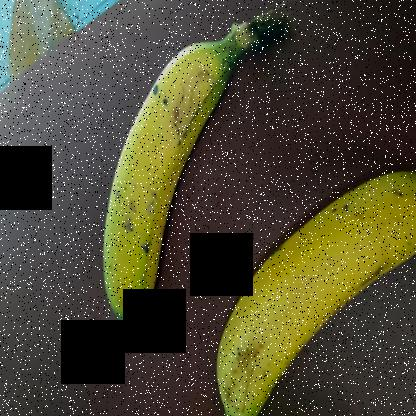freshripe: (189, 159, 415, 415)
ripe: (79, 34, 243, 323)
